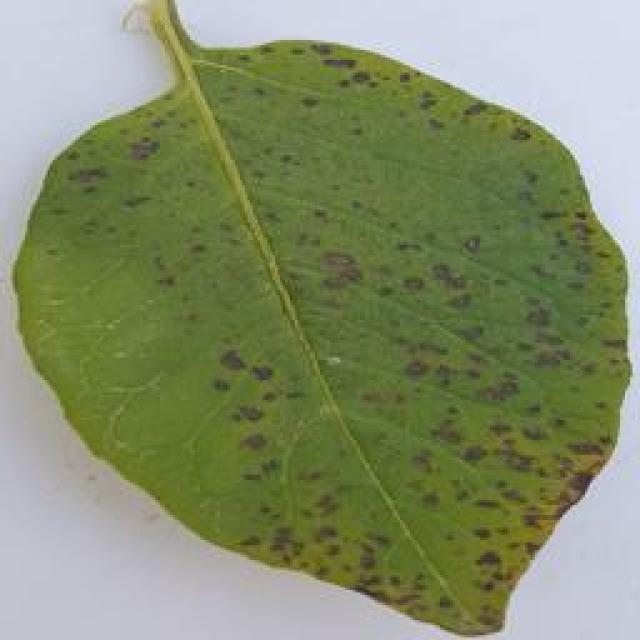Potato_Early_Blight: (0, 6, 628, 626)
